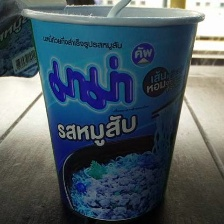paper_cup: (17, 0, 208, 224)
